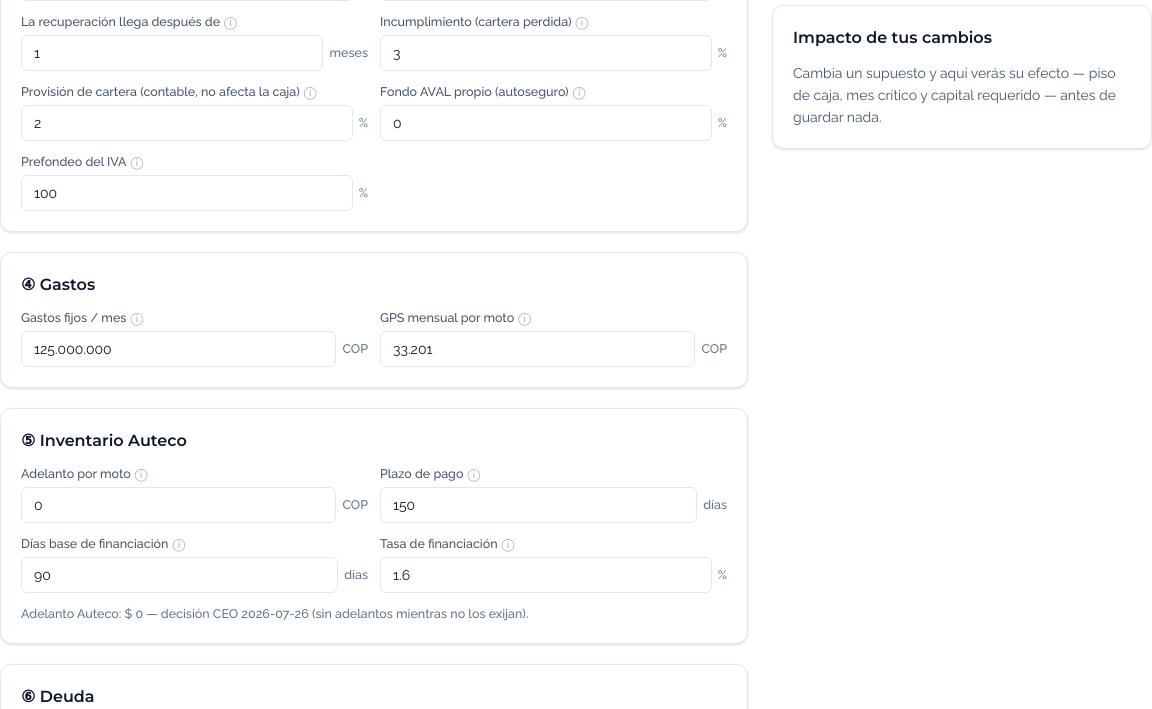
it: Supuestos — validación en 3 niveles (§6.3) › error bloquea: monto vacío marca el campo
(page scrolled)
Clear the field showing "125.000.000" at [179, 349], box [21, 331, 336, 367]
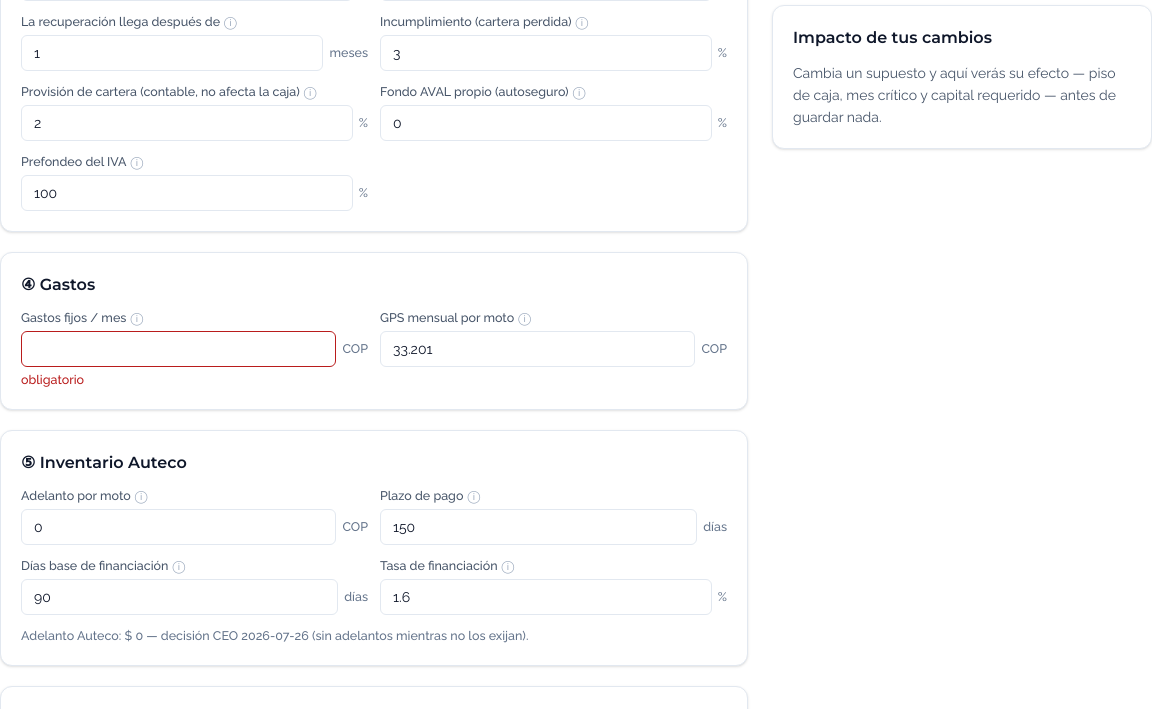
Check: the text "obligatorio" is shown, box [21, 372, 84, 387]
